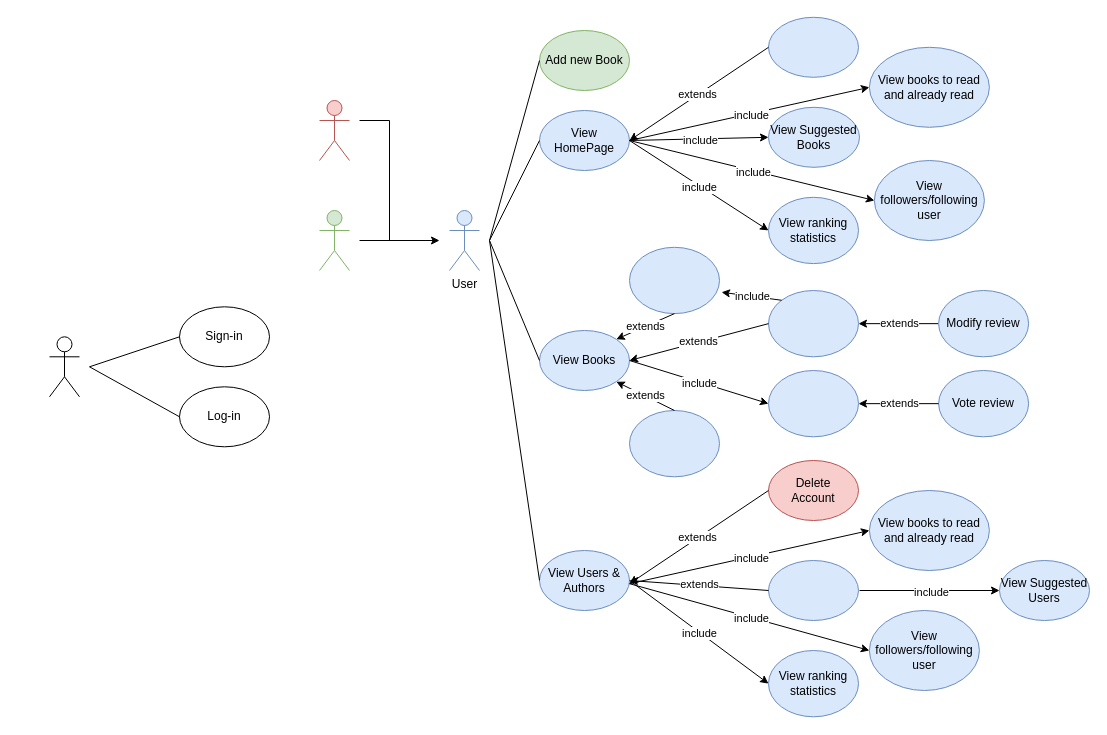
Image size: 1107x735. Some labels were removed from this diagram. Each missing label, with the centre of its shape:
Add to "already read" list: [674,280]
Add to "to-read" list: [674,443]
Admin: [334,130]
Author: [334,240]
Follow: [813,590]
Leave a review: [813,323]
Modify/Delete Account: [813,46]
Unregistered user: [64,366]
View reviews: [813,403]
